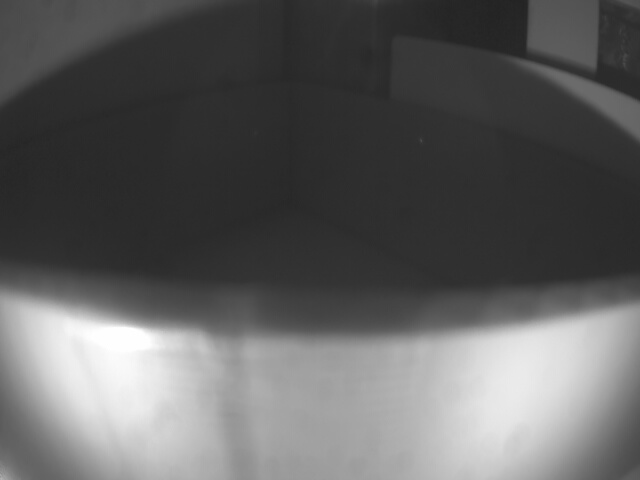Green: (2, 274, 639, 479)
